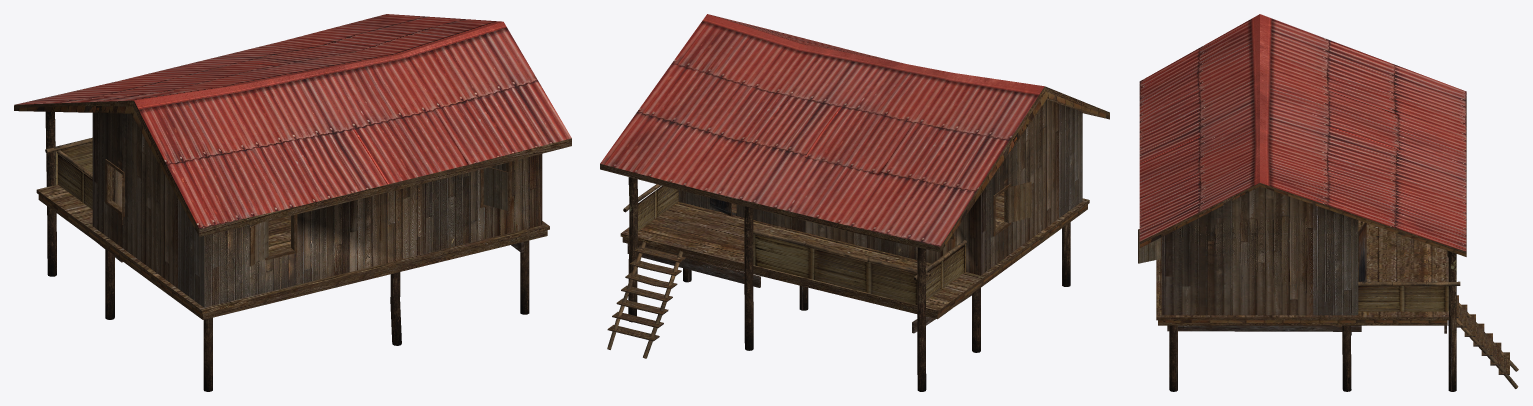
The model's file is House 03.FBX.
3 renders of one model, left to right at view 1: azimuth 30°, elevation 25°; view 2: azimuth 150°, elevation 25°; view 3: azimuth 270°, elevation 25°, orthographic. The views are drawn at different scales.
Visible parts, largest first — view 1: House 03; view 2: House 03; view 3: House 03.
Boxes of the visible parts, bbox=[...] form: House 03: bbox=[14, 14, 571, 391]; House 03: bbox=[600, 14, 1109, 391]; House 03: bbox=[1138, 14, 1518, 391].
Bounding box in the file's own units: 60.69 × 41.01 × 60.92.
